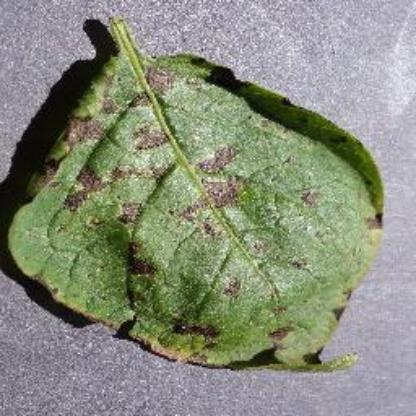Early-Blight: (7, 17, 393, 375)
